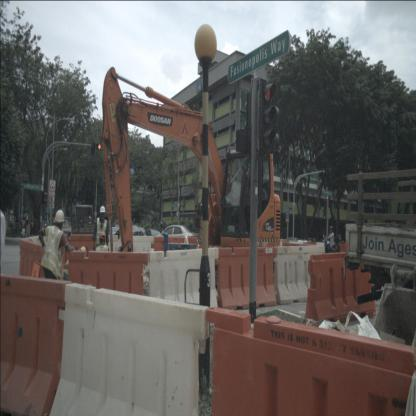human-pedestrian-adult: (26, 212, 31, 243)
movable_object-barrier: (206, 308, 416, 415), (49, 283, 209, 415), (0, 275, 72, 416), (63, 250, 148, 333), (144, 247, 219, 318), (305, 253, 373, 323), (215, 246, 277, 311), (274, 245, 326, 304), (102, 235, 154, 273), (61, 234, 103, 274), (151, 236, 199, 270), (21, 234, 63, 268), (329, 240, 350, 262)
movable_object-trafficcone: (367, 279, 377, 316)
vehicle-car: (150, 225, 200, 261), (113, 224, 144, 249), (52, 217, 72, 238)
vehicle-motorcycle: (320, 225, 342, 258)
vehicle-truck: (345, 168, 416, 327)
